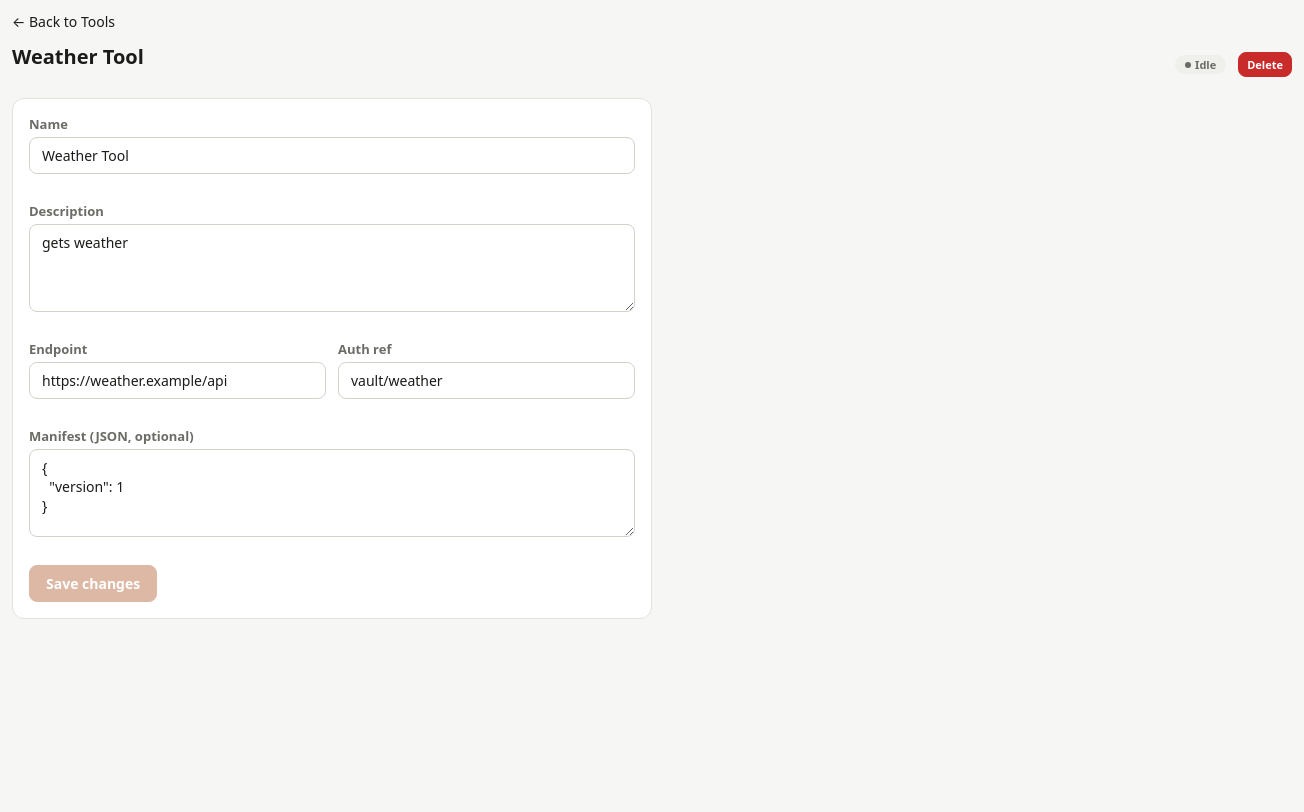
registry tool editing › non-object manifest is rejected with a readable message
Replace the text in the text box labelled "Manifest (JSON, optional)" with "42" at (332, 493), box [29,449,635,537]
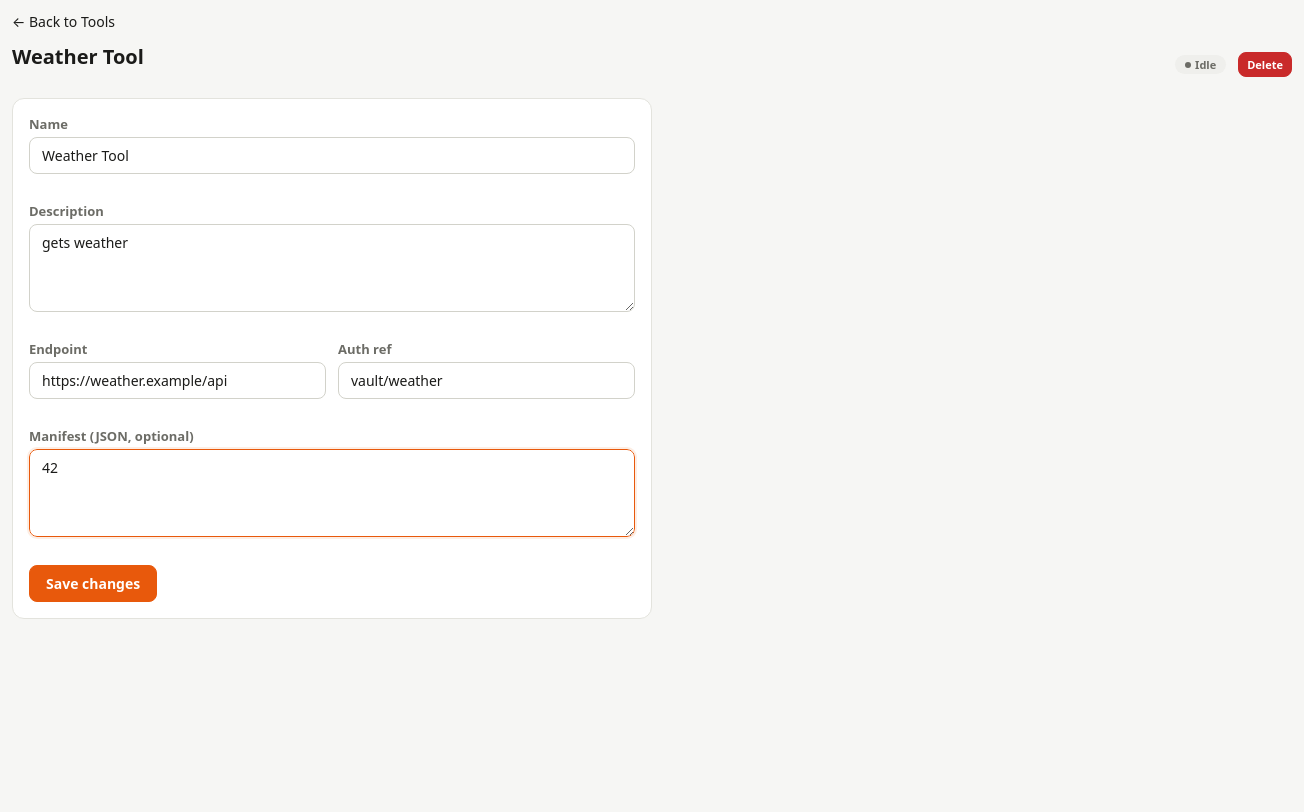
Click the button "Save changes".
click(93, 584)  # box [29,565,157,602]
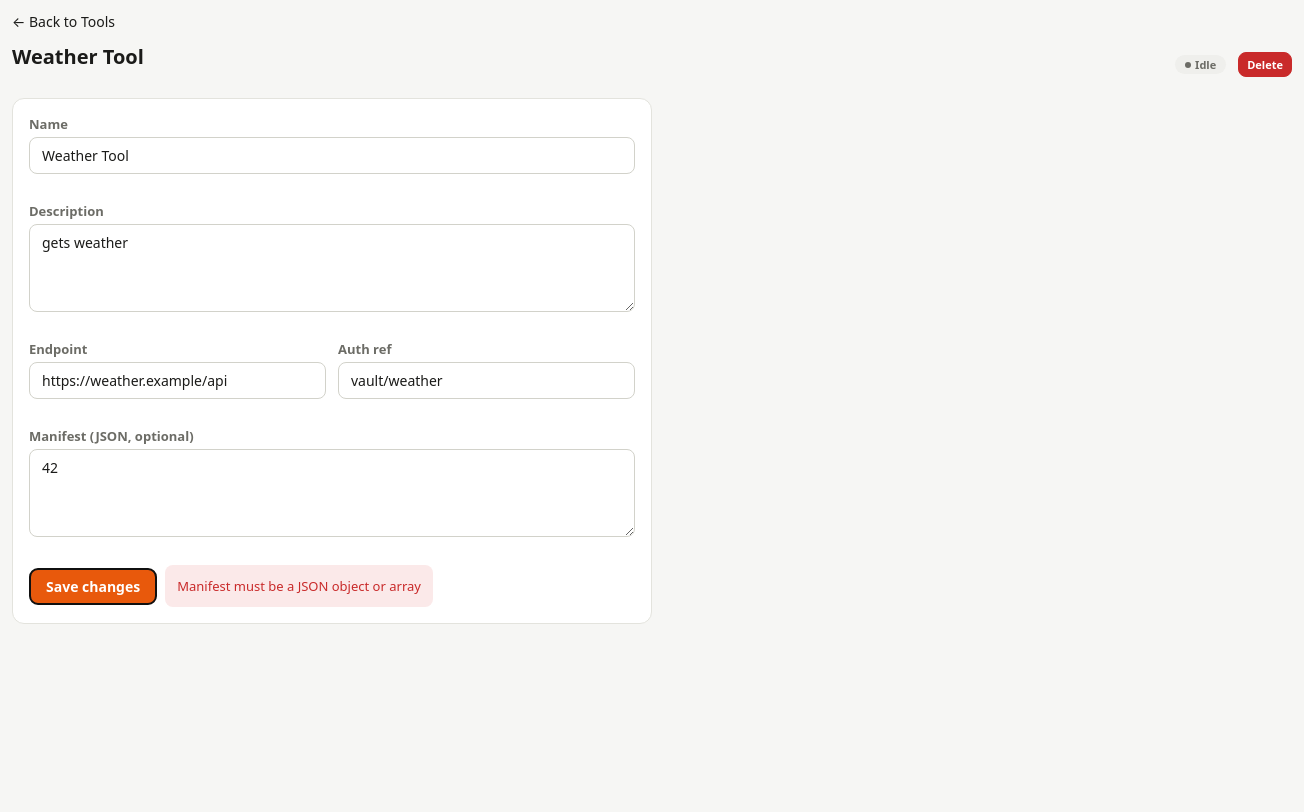
Now the message reads "Manifest must be a JSON object or array", box [177,577,421,595]
